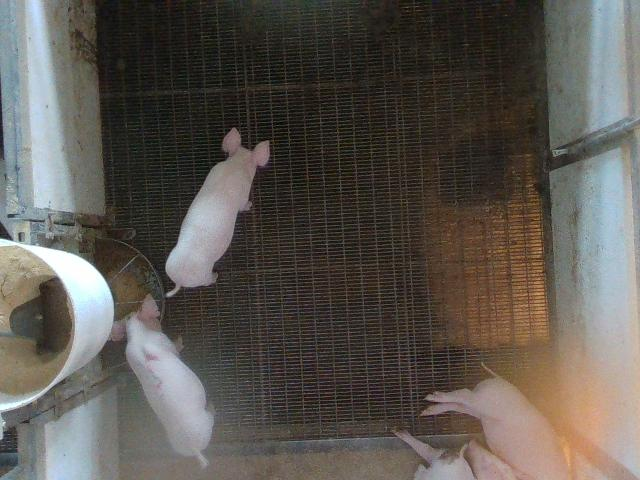pig-5: (111, 295, 214, 467)
